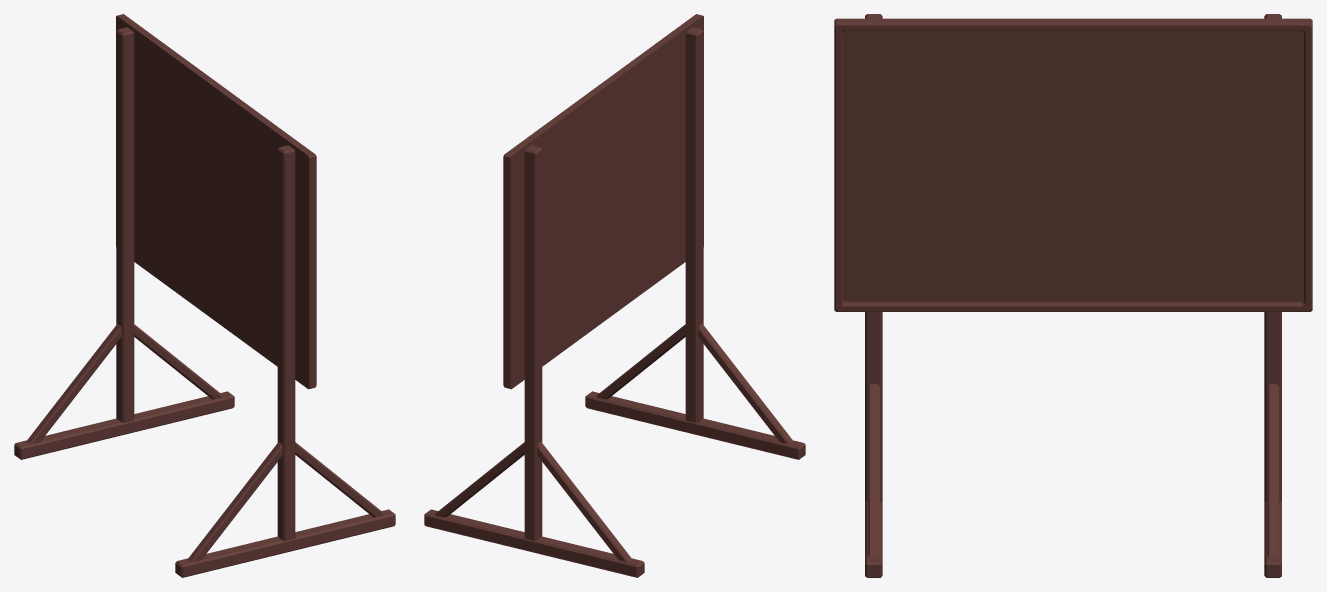
File: Management Board.fbx
The picture shows the model from 3 angles, left to right: view 1: azimuth 30°, elevation 25°; view 2: azimuth 150°, elevation 25°; view 3: azimuth 270°, elevation 25°; orthographic projection. The views are drawn at different scales.
Parts seen in each view (by area): view 1: Plane; view 2: Plane; view 3: Plane.
Boxes of the visible parts, box(x1,y1,x2,y2) form: Plane: box(14, 14, 395, 577); Plane: box(424, 14, 805, 577); Plane: box(834, 14, 1312, 577).
Size of the model in its own units: 96.25 by 173 by 150.
